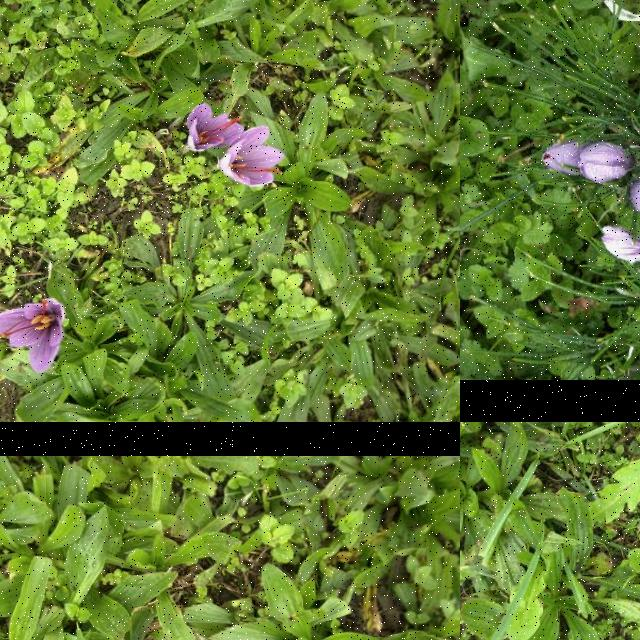flower: (0, 300, 66, 374), (219, 125, 287, 187), (186, 102, 244, 152), (579, 142, 637, 184), (542, 142, 582, 178), (601, 226, 640, 261), (629, 176, 640, 220)
